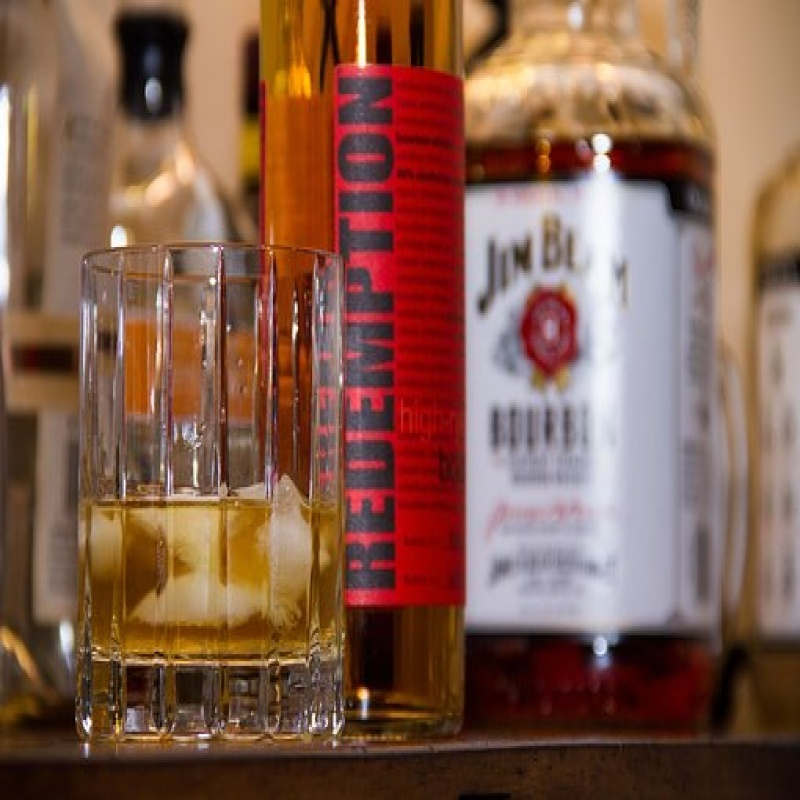whiskey: (72, 244, 342, 747)
